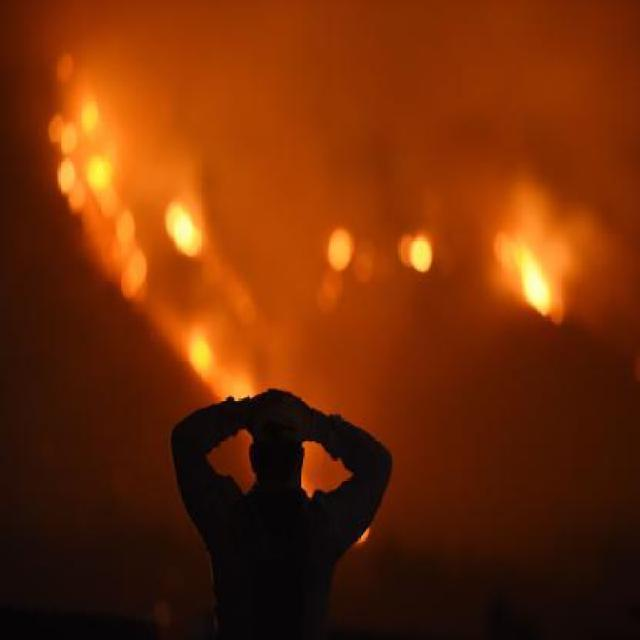Fire: (52, 55, 271, 403), (494, 186, 606, 331)
